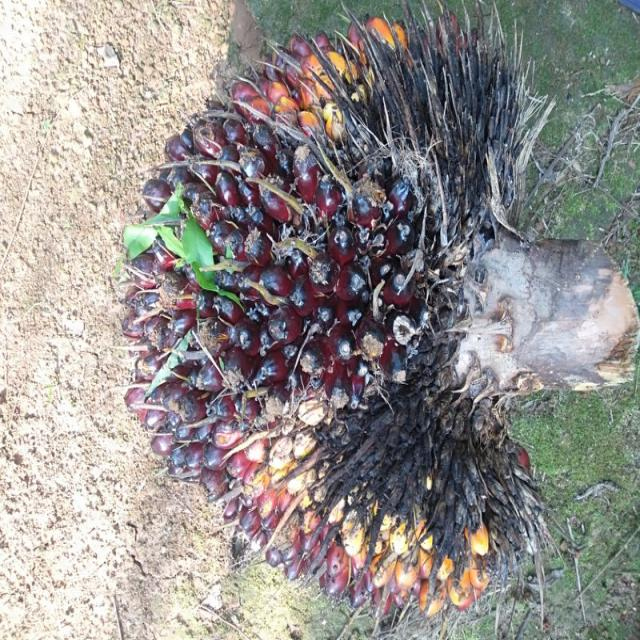fraksi 1: (81, 11, 607, 628)
